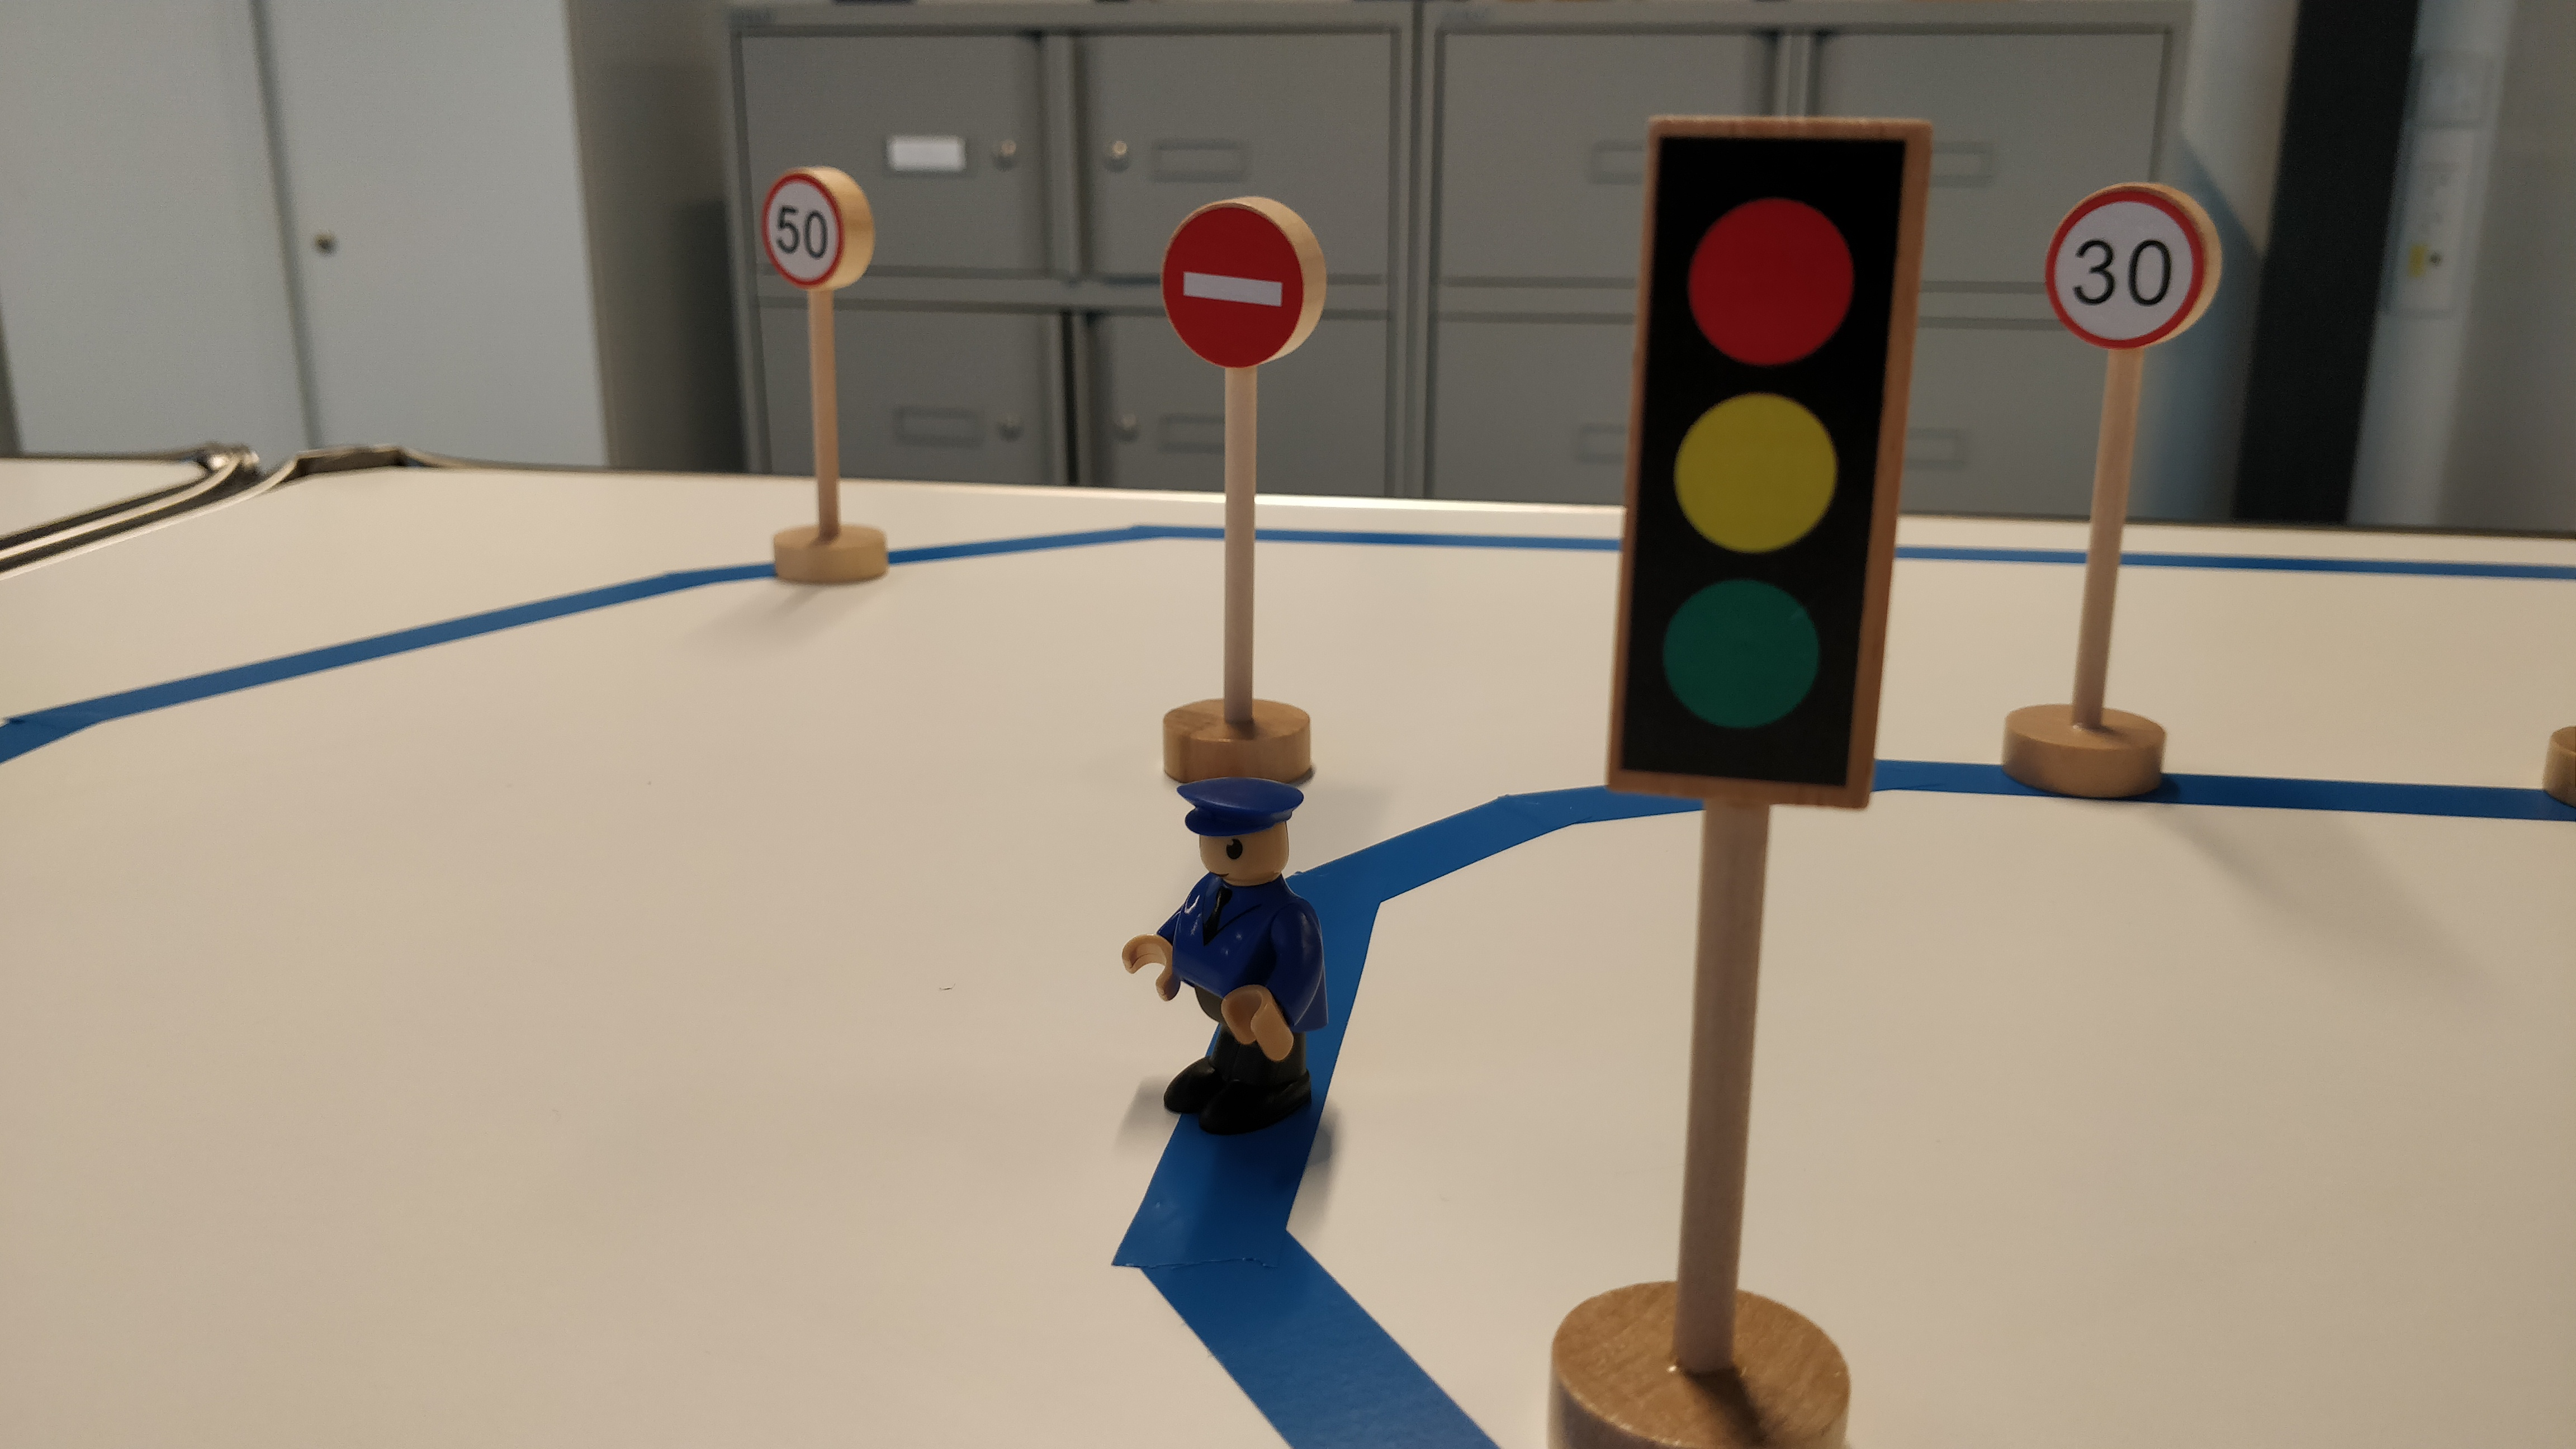Person: (1121, 774, 1338, 1137)
Prohibition Sign: (1158, 190, 1337, 373)
Speed Limit 30: (2044, 177, 2225, 356)
Speed Limit 50: (760, 163, 874, 299)
Traffic Light: (1604, 112, 1941, 816)
